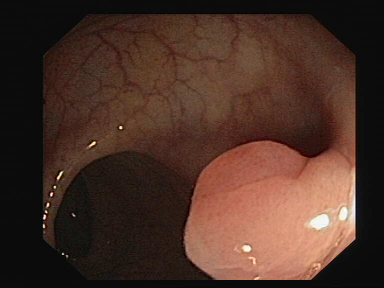polyp: (160, 101, 353, 277)
